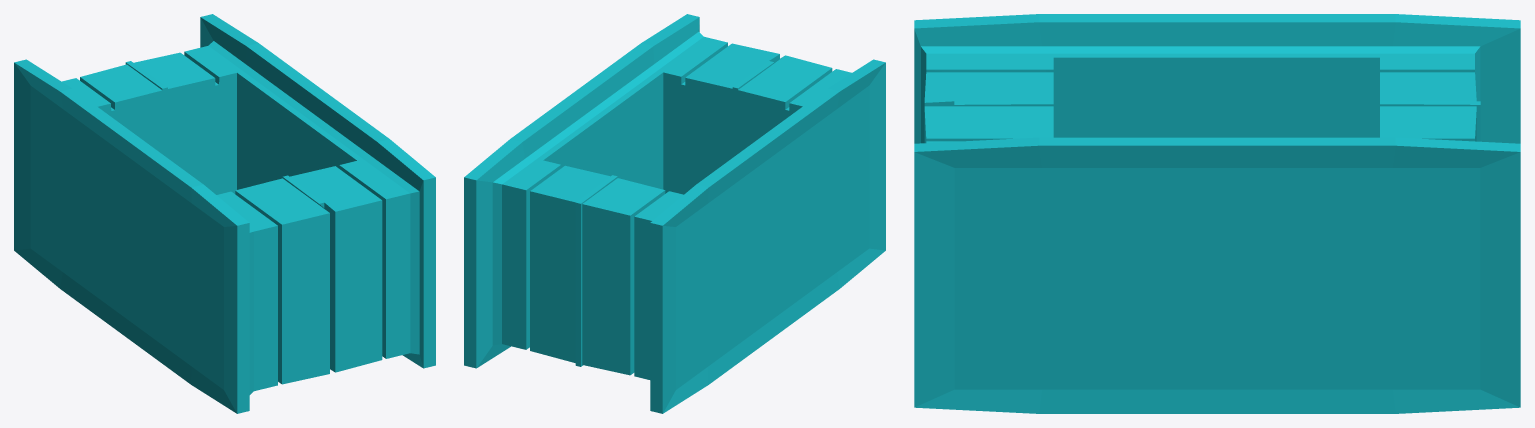
File: machine_converted.obj
The picture shows the model from 3 angles, left to right: view 1: azimuth 30°, elevation 25°; view 2: azimuth 150°, elevation 25°; view 3: azimuth 270°, elevation 25°; orthographic projection. The views are drawn at different scales.
Parts seen in each view (by area): view 1: Cube; view 2: Cube; view 3: Cube.
Part boxes in pixels (<box>): Cube: <box>14,14,435,413</box>; Cube: <box>464,14,885,413</box>; Cube: <box>914,14,1520,413</box>.
Size of the model in its own units: 1.33 by 1.27 by 2.59.
